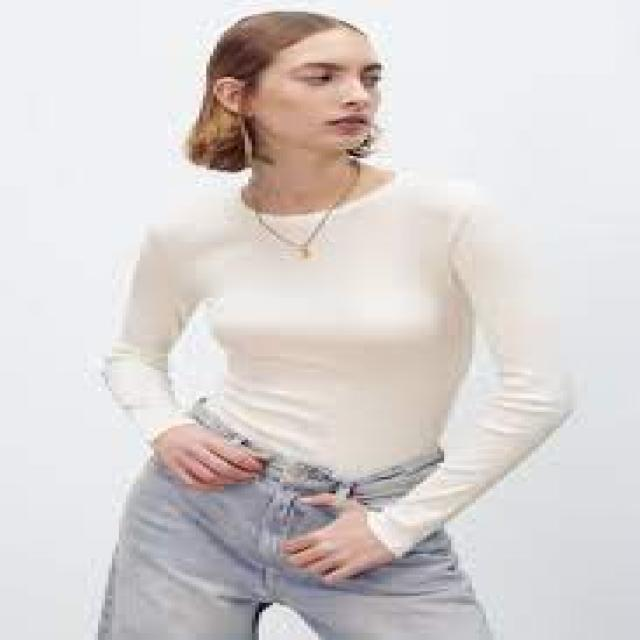plain: (105, 175, 586, 480)
